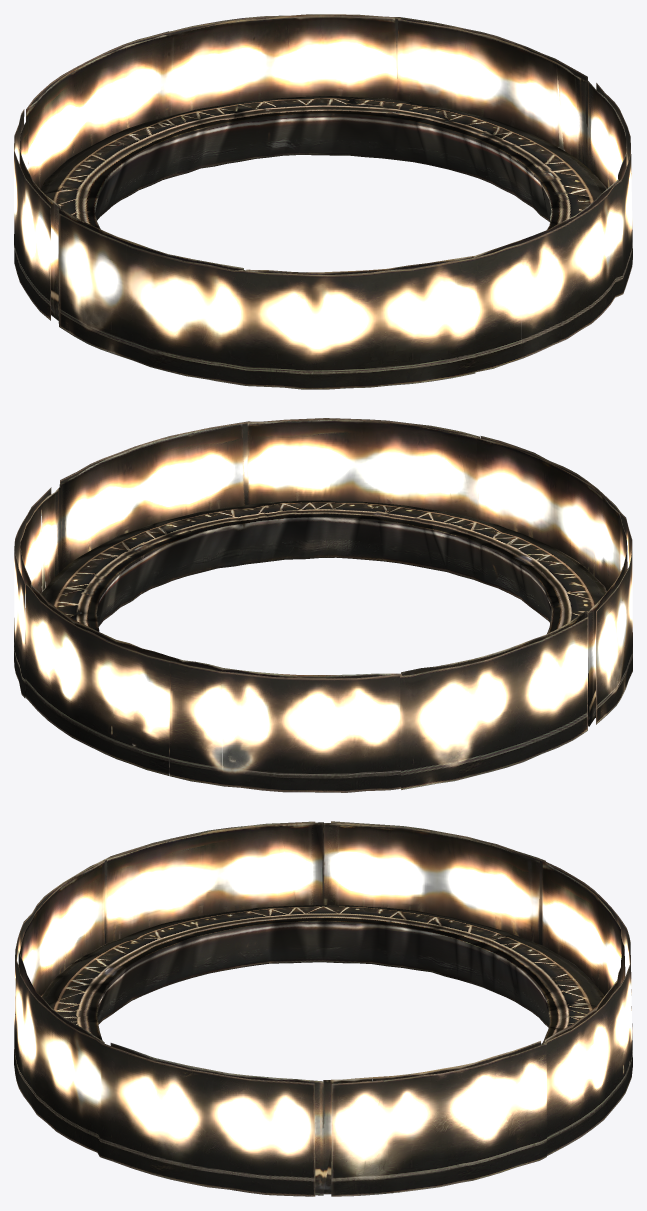
Rendered from Meshy_AI_Runic_Ring_of_Fire_0721143626_texture.fbx.
3 views of the same model, one above another, from view 1: azimuth 30°, elevation 25°; view 2: azimuth 150°, elevation 25°; view 3: azimuth 270°, elevation 25° (orthographic).
Parts seen in each view (by area): view 1: Mesh_0; view 2: Mesh_0; view 3: Mesh_0.
Boxes of the visible parts, x1=… form: Mesh_0: x1=14, y1=14, x2=632, y2=389; Mesh_0: x1=14, y1=418, x2=632, y2=792; Mesh_0: x1=14, y1=821, x2=632, y2=1196.
Bounding box in the file's own units: 100 × 20.9 × 100.
1 material, 1 textured.
